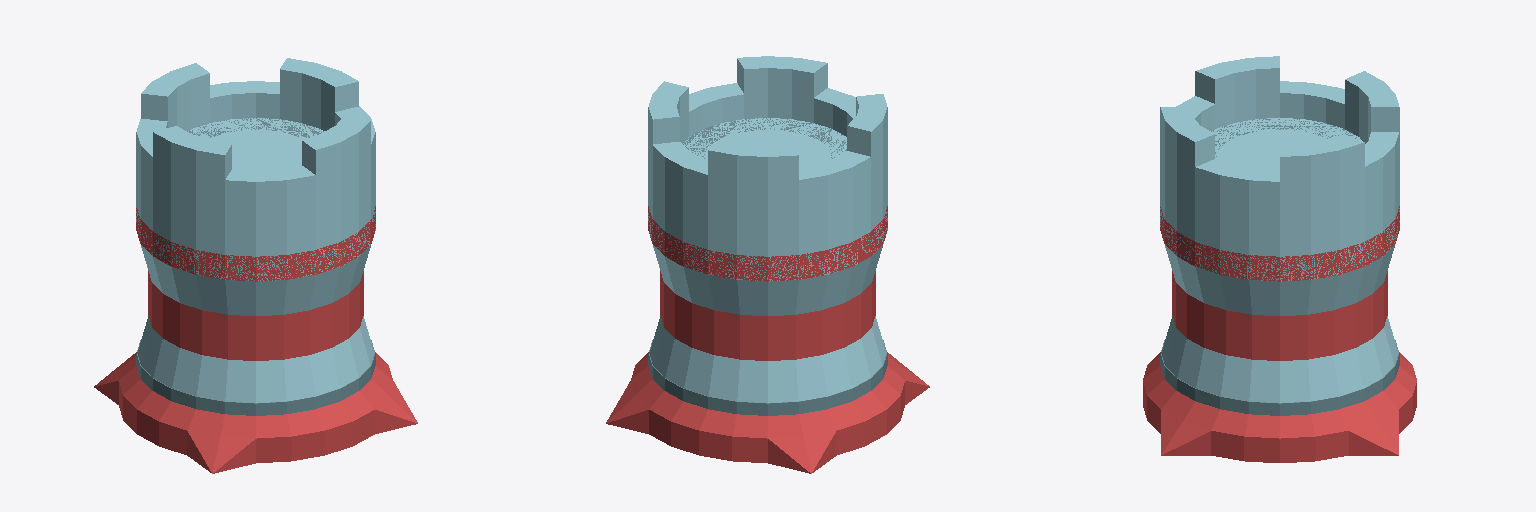
The model's file is Shooter.obj.
3 views of the same model, side by side, from view 1: azimuth 30°, elevation 25°; view 2: azimuth 150°, elevation 25°; view 3: azimuth 270°, elevation 25° (orthographic).
Parts seen in each view (by area): view 1: towerRound_topA, towerRound_middleA, Shooter; view 2: towerRound_topA, towerRound_middleA, Shooter; view 3: towerRound_topA, towerRound_middleA, Shooter.
Boxes of the visible parts, <box> form: towerRound_topA: <box>136,58,375,281</box>; towerRound_middleA: <box>137,245,374,402</box>; Shooter: <box>94,340,417,473</box>; towerRound_topA: <box>648,56,887,281</box>; towerRound_middleA: <box>649,245,886,402</box>; Shooter: <box>606,340,929,473</box>; towerRound_topA: <box>1160,56,1399,281</box>; towerRound_middleA: <box>1161,245,1398,402</box>; Shooter: <box>1143,340,1416,462</box>.
Bounding box in the file's own units: 1 × 1.2 × 1.